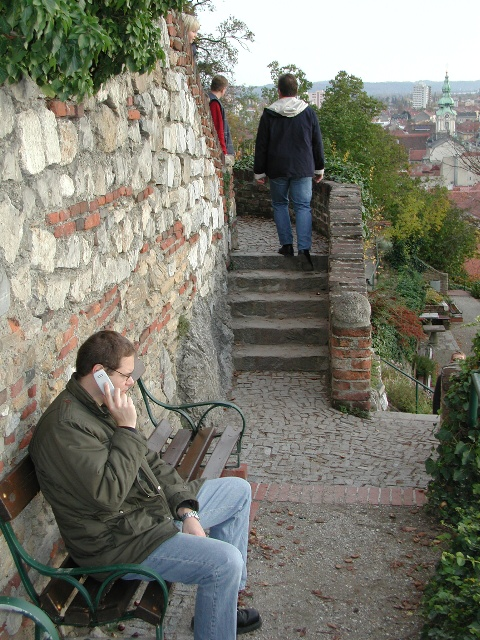person: (253, 71, 321, 266)
